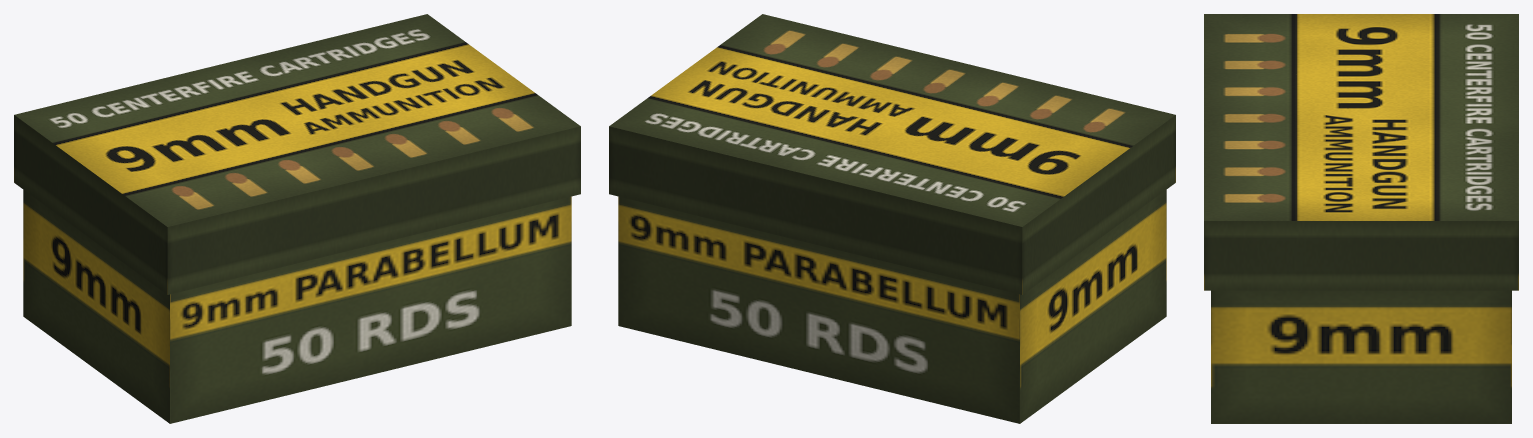
File: SM_HandgunAmmo.fbx
The picture shows the model from 3 angles, left to right: view 1: azimuth 30°, elevation 25°; view 2: azimuth 150°, elevation 25°; view 3: azimuth 270°, elevation 25°; orthographic projection. The views are drawn at different scales.
Parts seen in each view (by area): view 1: SM_HandgunAmmo; view 2: SM_HandgunAmmo; view 3: SM_HandgunAmmo.
Boxes of the visible parts, box(x1,y1,x2,y2) form: SM_HandgunAmmo: box(14, 14, 580, 423); SM_HandgunAmmo: box(609, 14, 1175, 423); SM_HandgunAmmo: box(1204, 14, 1518, 423).
Bounding box in the file's own units: 0.14 × 0.065 × 0.09.
1 material, 1 textured.
